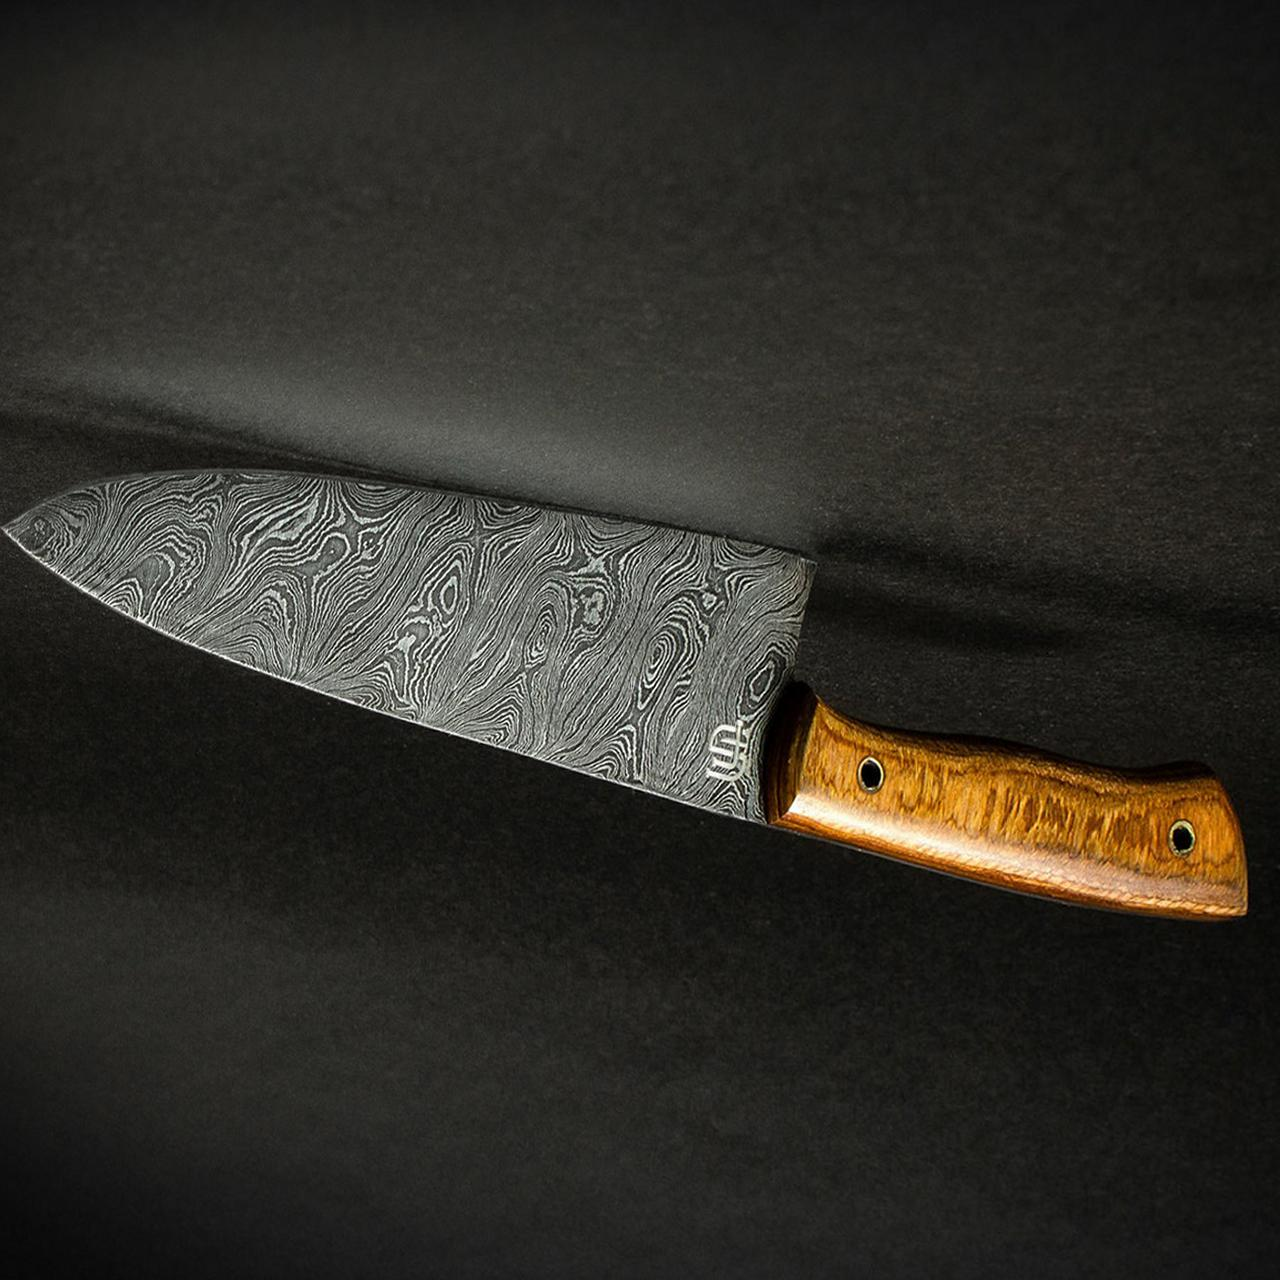knife: (4, 467, 1260, 927)
